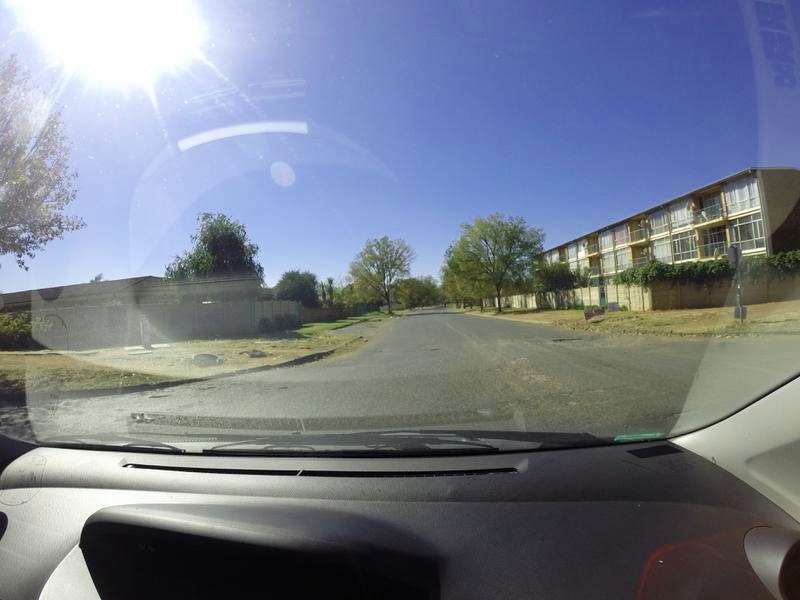pothole: (551, 331, 594, 350), (424, 341, 450, 356)
